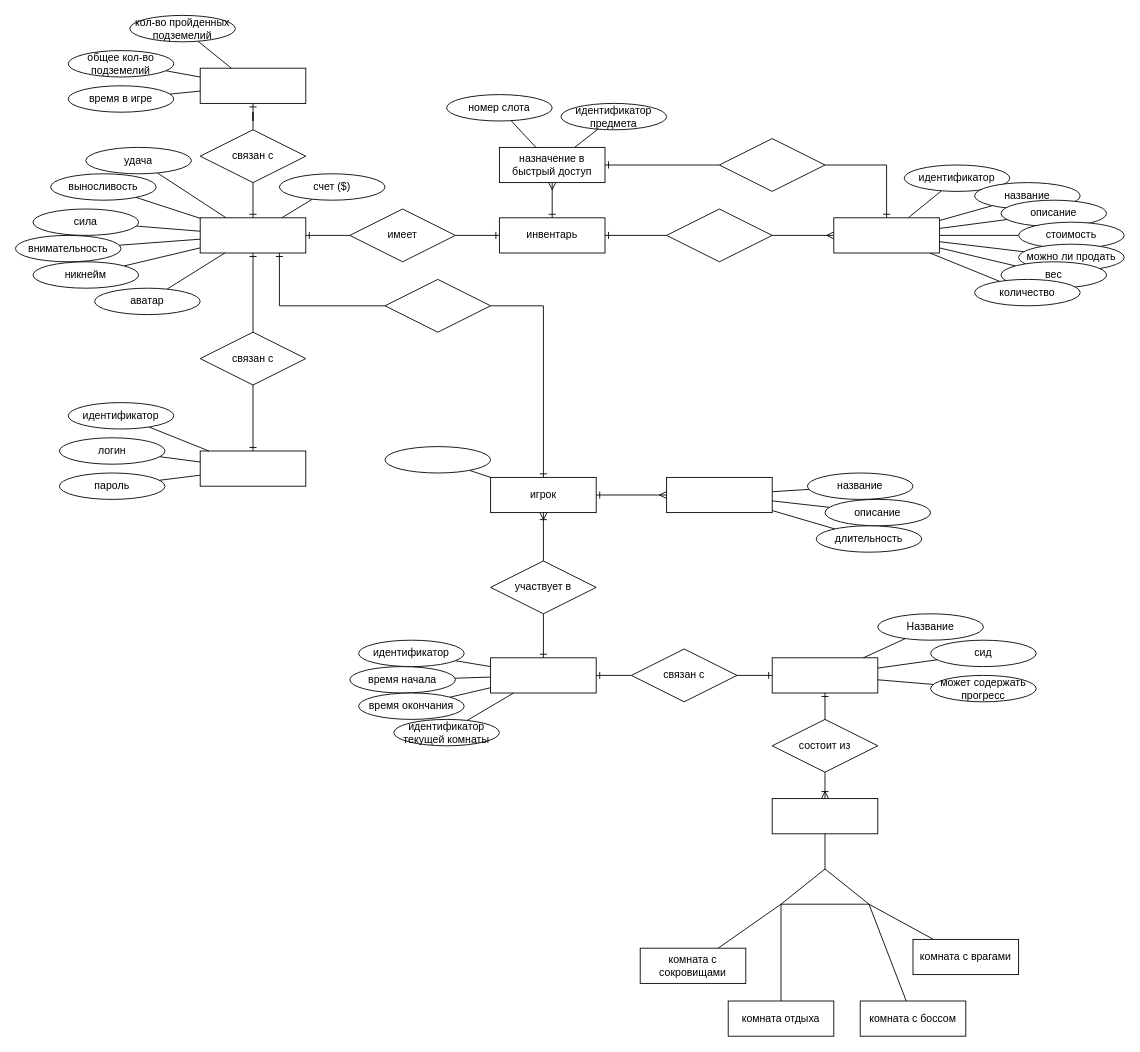
Image size: 1140x1052. Some labels were removed from this diagram. Here are the shapes that lost their labels. From the top down, the centre of each, then its label:
the point at 252,85: статистика профиля
the point at 772,164: ссылается на
the point at 252,235: игровой профиль
the point at 719,235: содержит
the point at 886,235: подбираемый предмет
the point at 437,305: порождает
the point at 252,468: аккаунт
the point at 437,459: хп
the point at 719,495: статус-эффект
the point at 543,675: поход (compaign)
the point at 824,675: подземелье
the point at 824,816: комната
the point at 824,886: является
